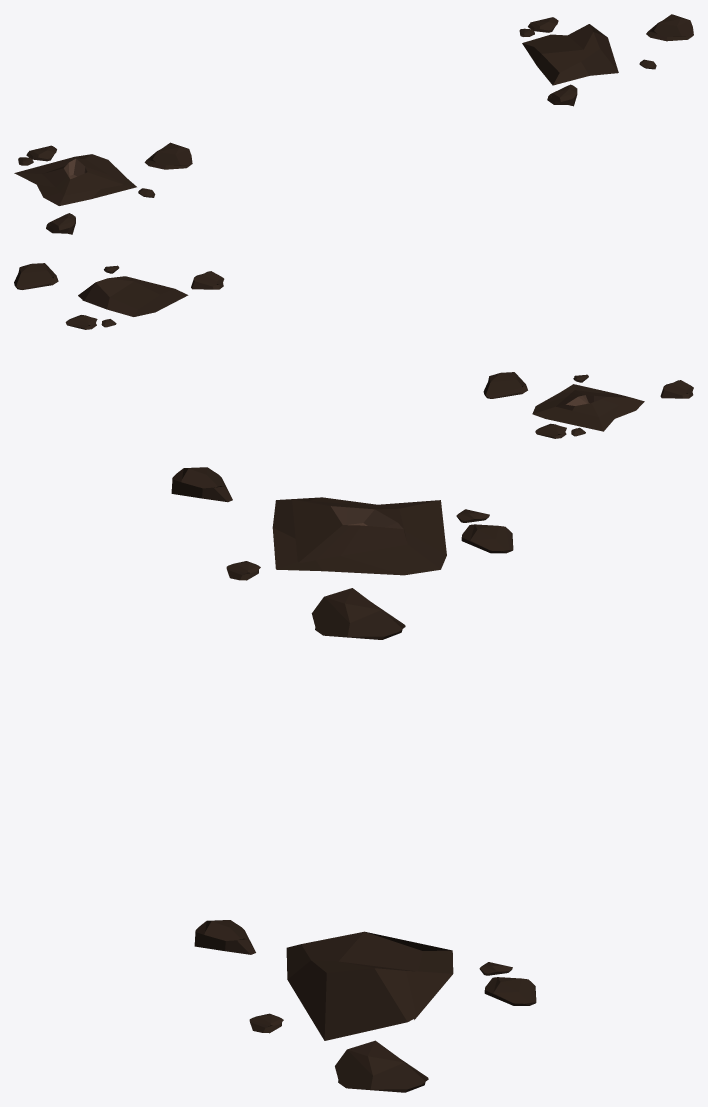
Rendered from Huequitos.fbx.
3 renders of one model, top to bottom at view 1: azimuth 30°, elevation 25°; view 2: azimuth 150°, elevation 25°; view 3: azimuth 270°, elevation 25°, orthographic. The views are drawn at different scales.
Visible parts, largest first — view 1: hueco plantado.002, Cubo; view 2: Cubo, hueco plantado.002; view 3: hueco plantado.002, Cubo, Cubo.001.
Part boxes in pixels (x1,y1,x2,y2): hueco plantado.002: (519, 14, 693, 106); Cubo: (14, 142, 192, 234); Cubo: (483, 372, 693, 438); hueco plantado.002: (14, 263, 224, 329); hueco plantado.002: (194, 920, 536, 1092); Cubo: (171, 467, 513, 639); Cubo.001: (331, 506, 403, 528).
Size of the model in its own units: 217 by 10.47 by 54.37.
